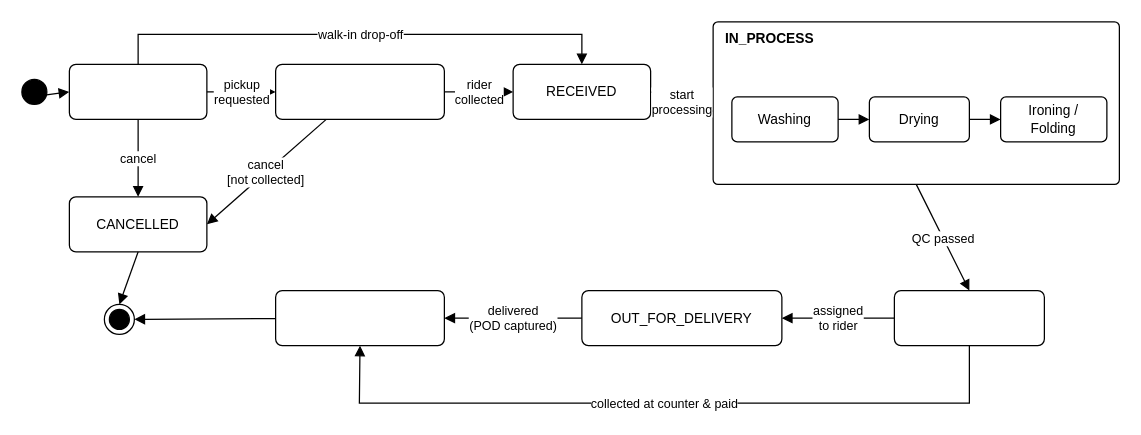
Image size: 1141x435. Some labels were removed from this diagram. Each missing label, with the box of its shape:
COMPLETED: (274, 289, 444, 346)
CREATED: (68, 63, 207, 119)
PENDING_PICKUP: (274, 63, 444, 119)
READY: (893, 289, 1044, 346)
